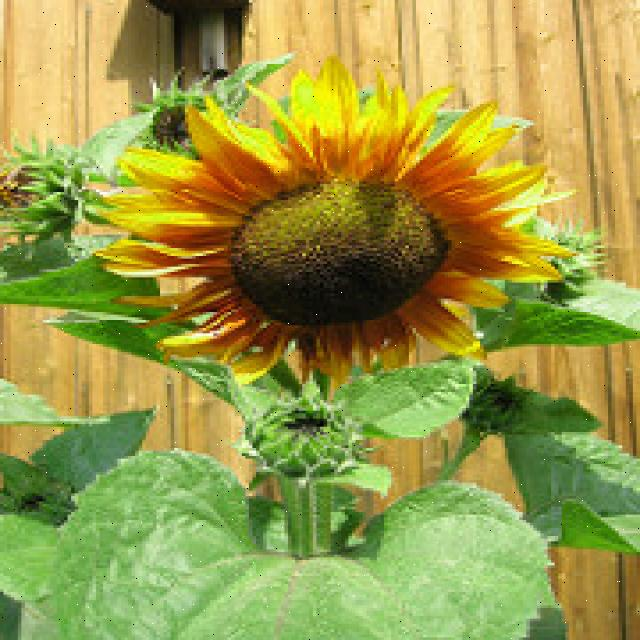Bloomed: (89, 59, 572, 386)
